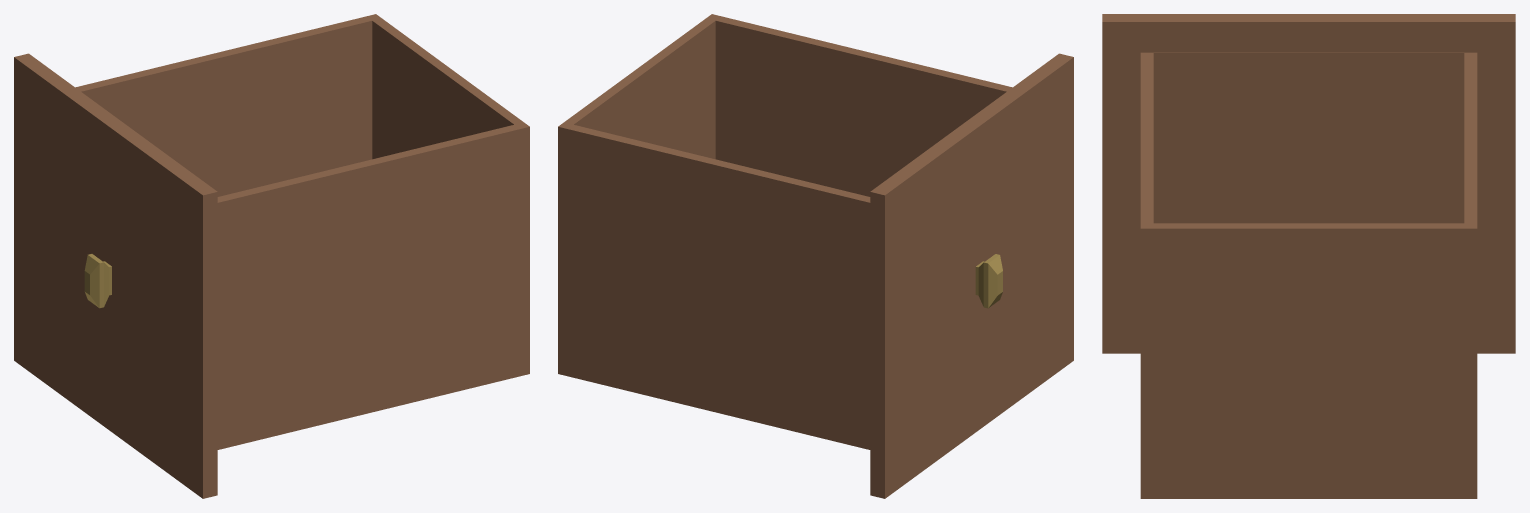
File: BT_bottom_drawer.fbx
3 renders of one model, left to right at view 1: azimuth 30°, elevation 25°; view 2: azimuth 150°, elevation 25°; view 3: azimuth 270°, elevation 25°, orthographic. The views are drawn at different scales.
Parts seen in each view (by area): view 1: BT bottom drawer; view 2: BT bottom drawer; view 3: BT bottom drawer.
Boxes of the visible parts, <box> form: BT bottom drawer: <box>14,14,529,498</box>; BT bottom drawer: <box>558,14,1073,498</box>; BT bottom drawer: <box>1102,14,1515,498</box>.
Bounding box in the file's own units: 744 × 591 × 667.
